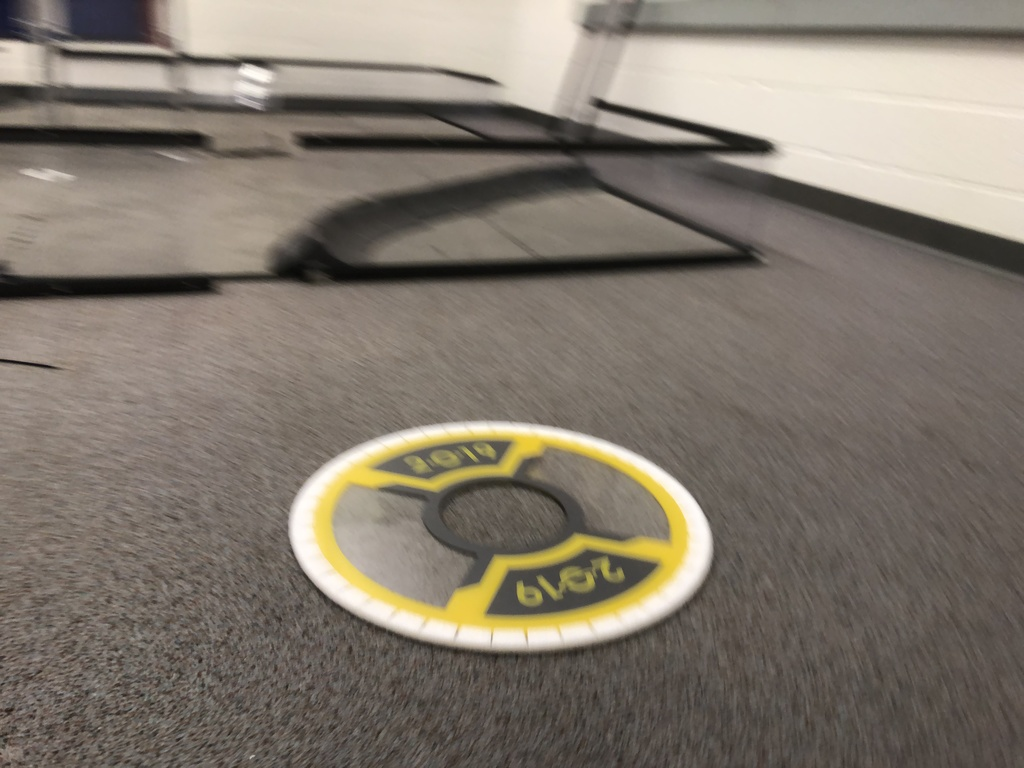hatch_panel: (267, 417, 720, 664)
